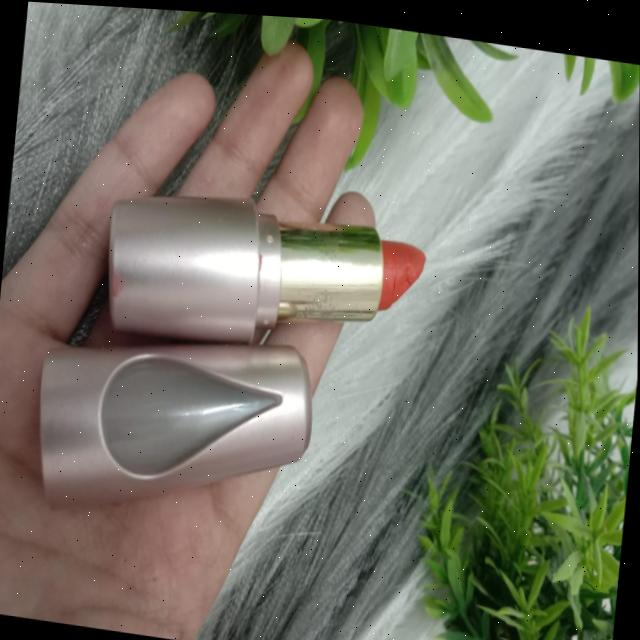lip stick: (66, 158, 450, 391)
